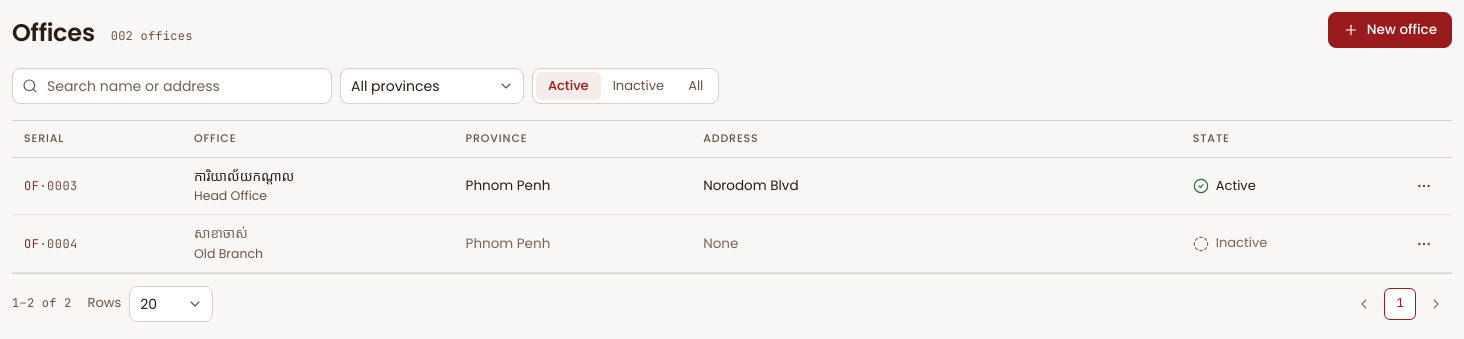
Test: OfficesView › filters by province with the search picker
Click the button with id "filter-province": (432, 86) [340,68,524,104]
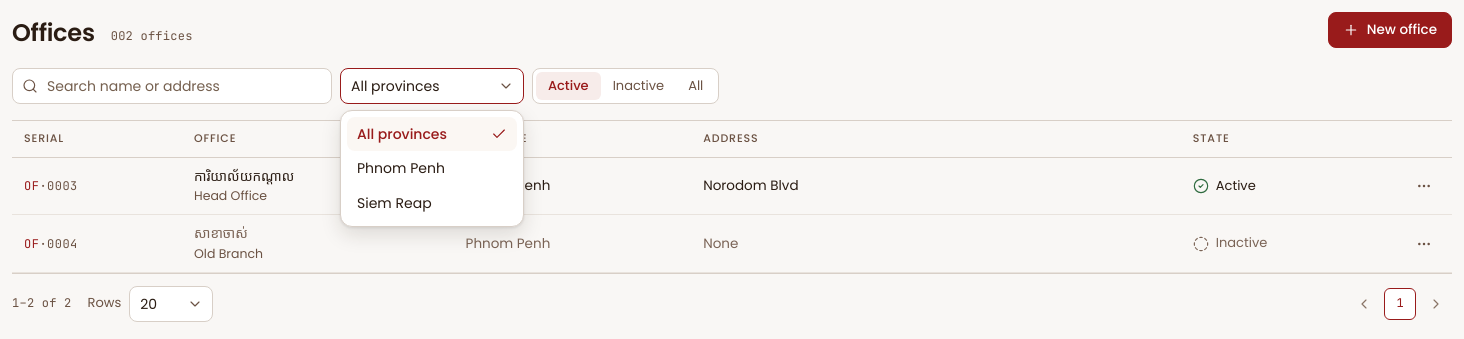
Click the option "Siem Reap": (394, 203) [357,193,432,213]
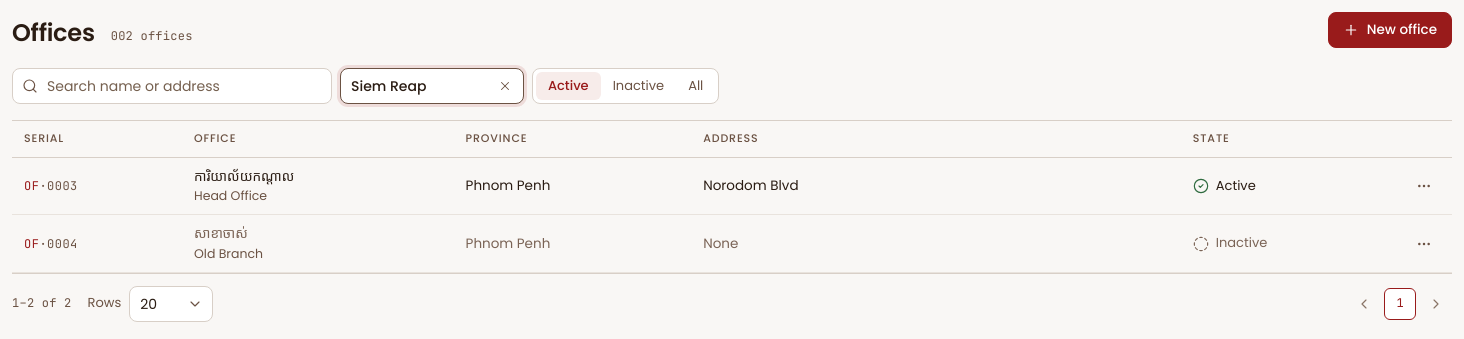
Result: the button with id "filter-province" reads "Siem Reap" at [340,68,524,104]
